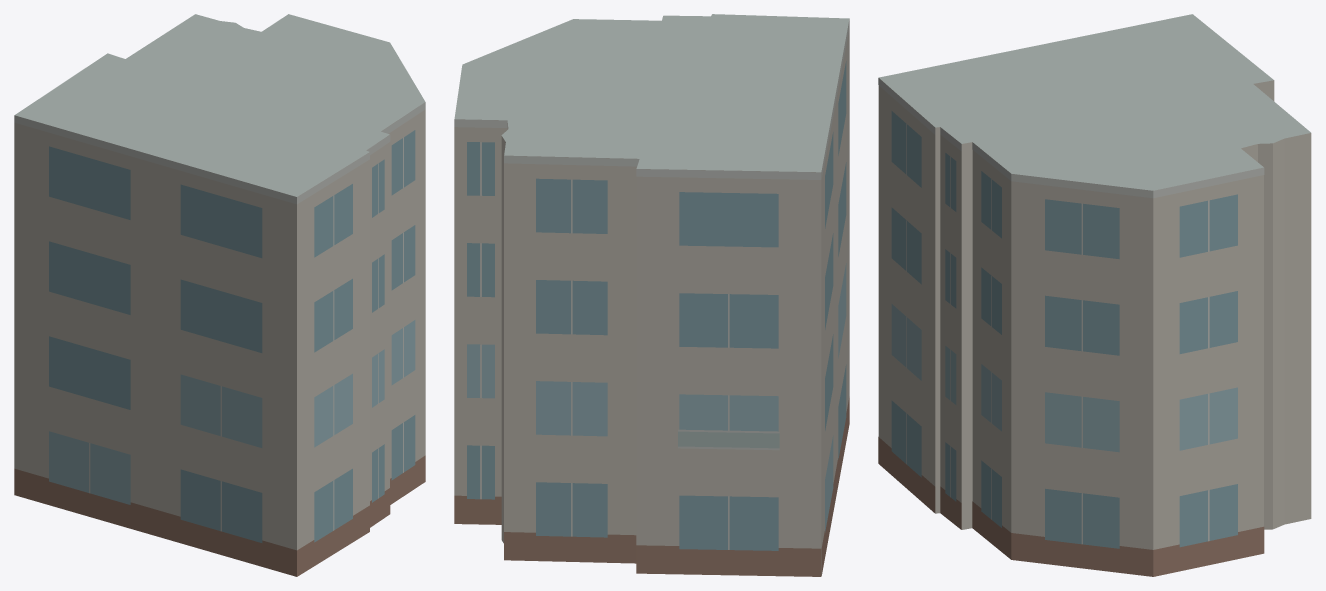
The model's file is survey-upis-32496484.glb.
3 views of the same model, side by side, from view 1: azimuth 30°, elevation 25°; view 2: azimuth 150°, elevation 25°; view 3: azimuth 270°, elevation 25° (orthographic). The views are drawn at different scales.
Parts seen in each view (by area): view 1: survey-upis-32496484.tmp; view 2: survey-upis-32496484.tmp; view 3: survey-upis-32496484.tmp.
Boxes of the visible parts, left/top/right/bottom form: survey-upis-32496484.tmp: left=14, top=14, right=425, bottom=576; survey-upis-32496484.tmp: left=454, top=14, right=849, bottom=576; survey-upis-32496484.tmp: left=878, top=14, right=1311, bottom=576.
Size of the model in its own units: 12.36 by 12.58 by 12.79.
